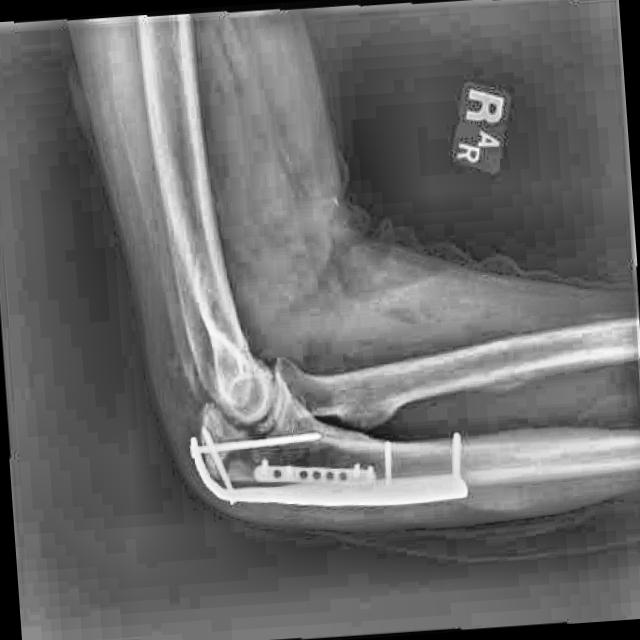elbow positive: (218, 447, 250, 482)
